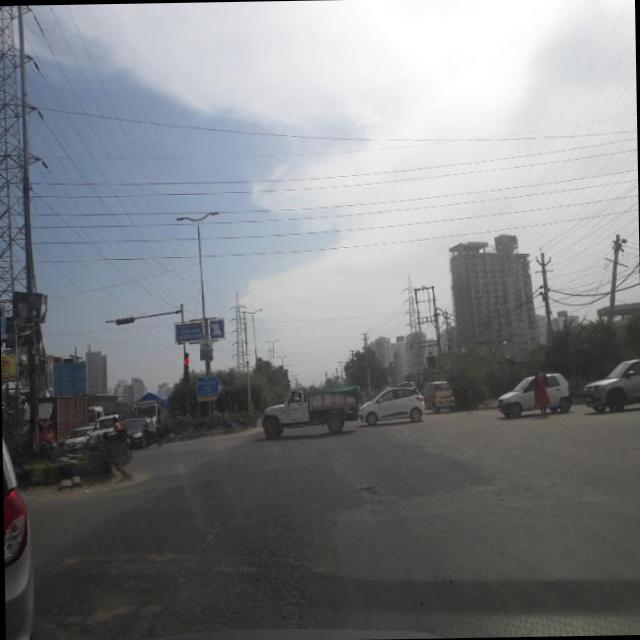crack: (46, 428, 479, 624), (130, 490, 242, 634)
pothole: (353, 478, 386, 502)
